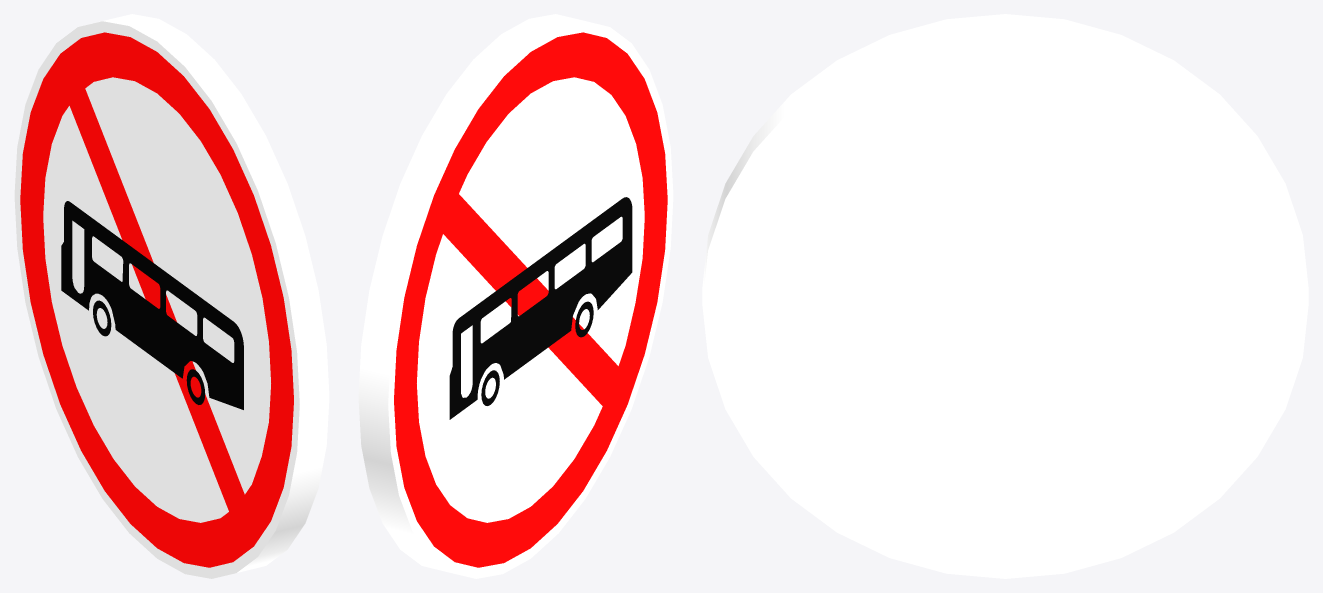
The model's file is No_Buses_Entry.glb.
3 views of the same model, side by side, from view 1: azimuth 30°, elevation 25°; view 2: azimuth 150°, elevation 25°; view 3: azimuth 270°, elevation 25° (orthographic). The views are drawn at different scales.
Parts seen in each view (by area): view 1: No_Buses_Entry; view 2: No_Buses_Entry; view 3: No_Buses_Entry.
Part boxes in pixels (box(x1,y1,x2,y2)): No_Buses_Entry: box(14, 14, 329, 578); No_Buses_Entry: box(358, 14, 673, 578); No_Buses_Entry: box(702, 14, 1308, 578).
Bounding box in the file's own units: 0.075 × 1 × 1.
